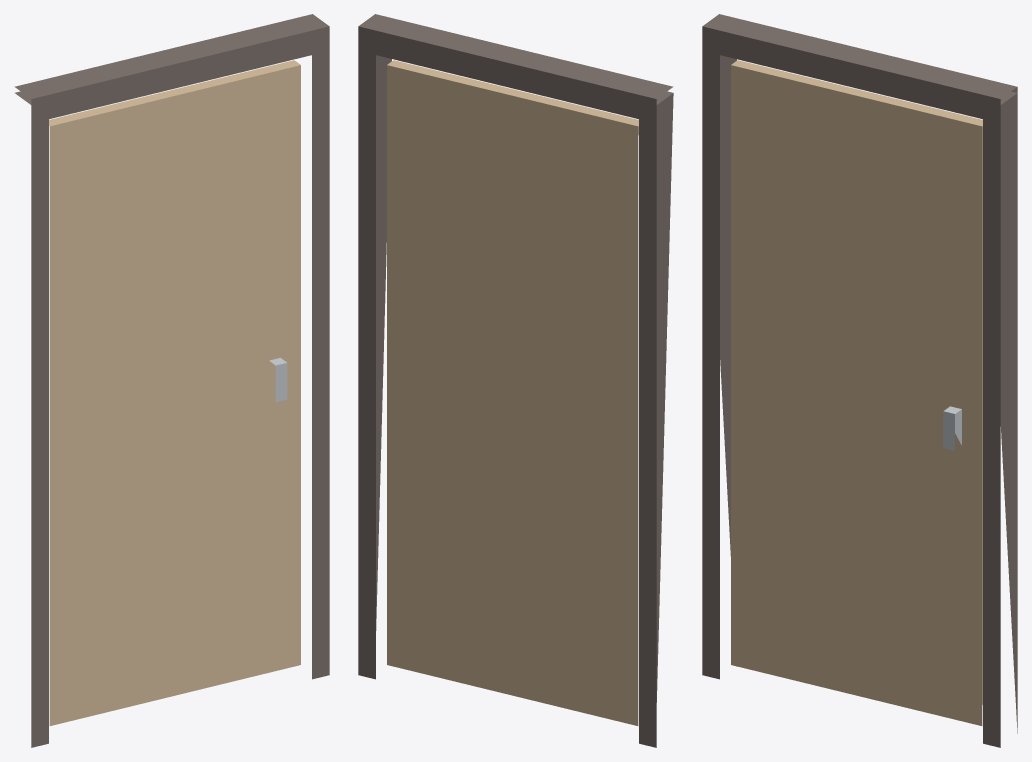
Rendered from door-slab.glb.
The picture shows the model from 3 angles, left to right: view 1: azimuth 30°, elevation 25°; view 2: azimuth 150°, elevation 25°; view 3: azimuth 330°, elevation 25°; orthographic projection.
Bounding box in the file's own units: 1.02 × 2.12 × 0.11.
